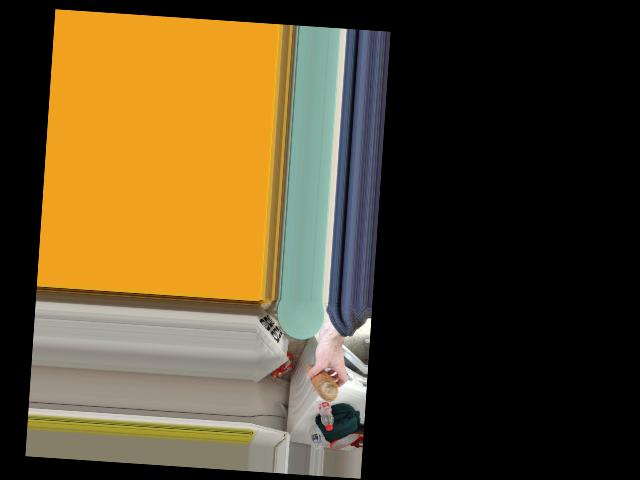sweet_potato: (302, 364, 337, 402)
